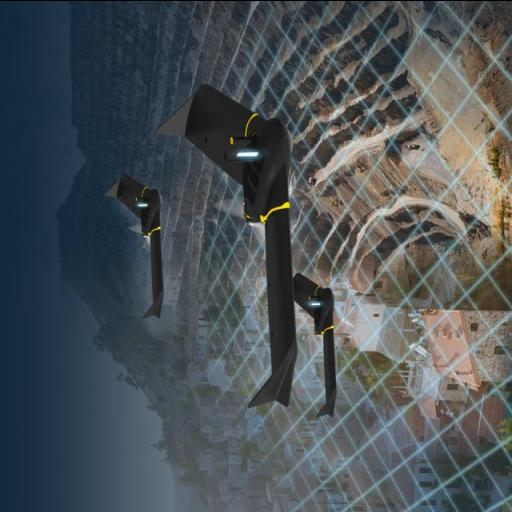uav: (148, 90, 308, 406)
